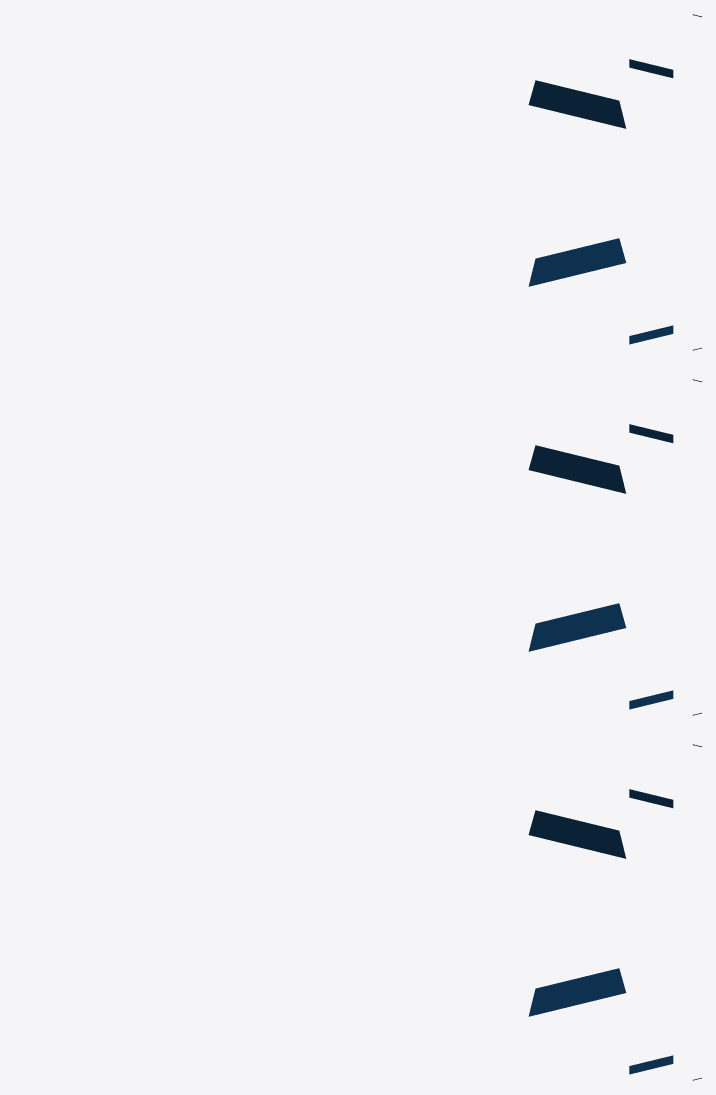
File: campos_estacion.obj
3 renders of one model, top to bottom at view 1: azimuth 30°, elevation 25°; view 2: azimuth 150°, elevation 25°; view 3: azimuth 270°, elevation 25°, orthographic.
Parts seen in each view (by area): view 1: campos_estacion; view 2: campos_estacion; view 3: campos_estacion.
Part boxes in pixels (bbox=[...]): campos_estacion: bbox=[528, 14, 701, 350]; campos_estacion: bbox=[528, 379, 701, 715]; campos_estacion: bbox=[528, 744, 701, 1080].
Size of the model in its own units: 85.68 by 4.37 by 74.2.
